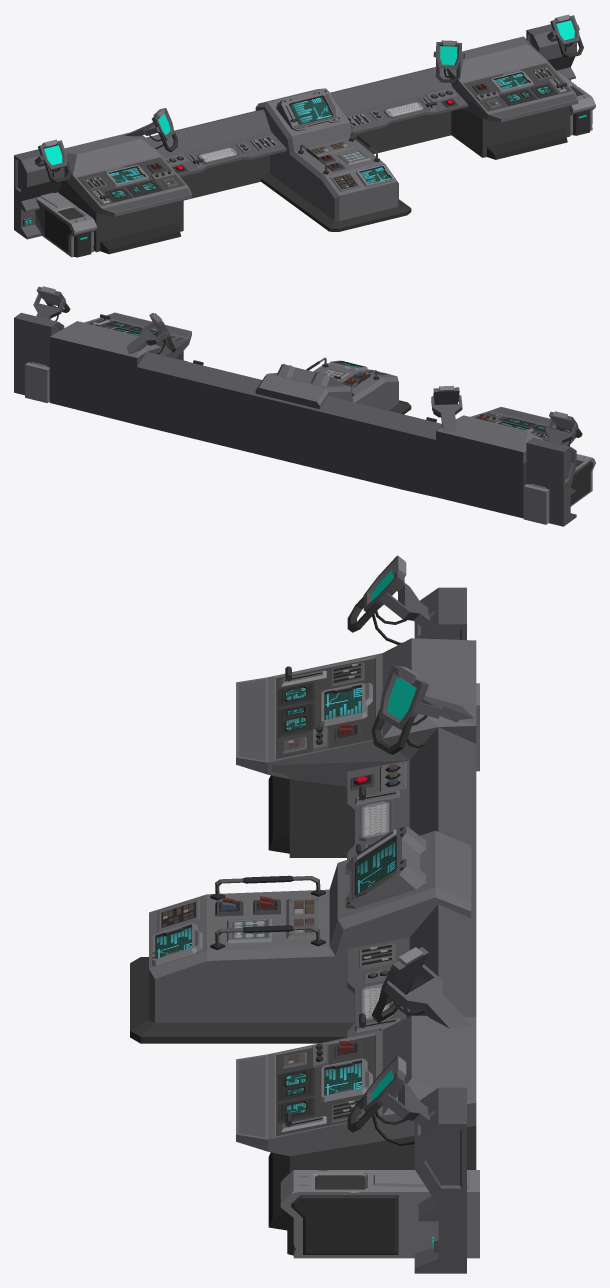
Rendered from SM_Prop_ControlPanel_02.glb.
The picture shows the model from 3 angles, top to bottom: view 1: azimuth 30°, elevation 25°; view 2: azimuth 150°, elevation 25°; view 3: azimuth 270°, elevation 25°; orthographic projection. The views are drawn at different scales.
Visible parts, largest first — view 1: SM_Prop_ControllPanel_02; view 2: SM_Prop_ControllPanel_02; view 3: SM_Prop_ControllPanel_02.
Part boxes in pixels (x1,y1,x2,y2): SM_Prop_ControllPanel_02: (14,14,595,257); SM_Prop_ControllPanel_02: (14,286,595,526); SM_Prop_ControllPanel_02: (130,555,479,1273).
Size of the model in its own units: 9.34 by 1.59 by 2.58.
Materials: 1 (1 with a texture image).
